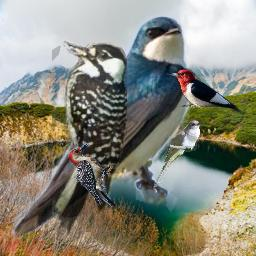Cuckoo: (153, 120, 202, 187)
Swallow: (5, 7, 199, 241)
Woodpecker: (52, 40, 127, 241), (165, 68, 244, 115), (68, 143, 117, 209)
